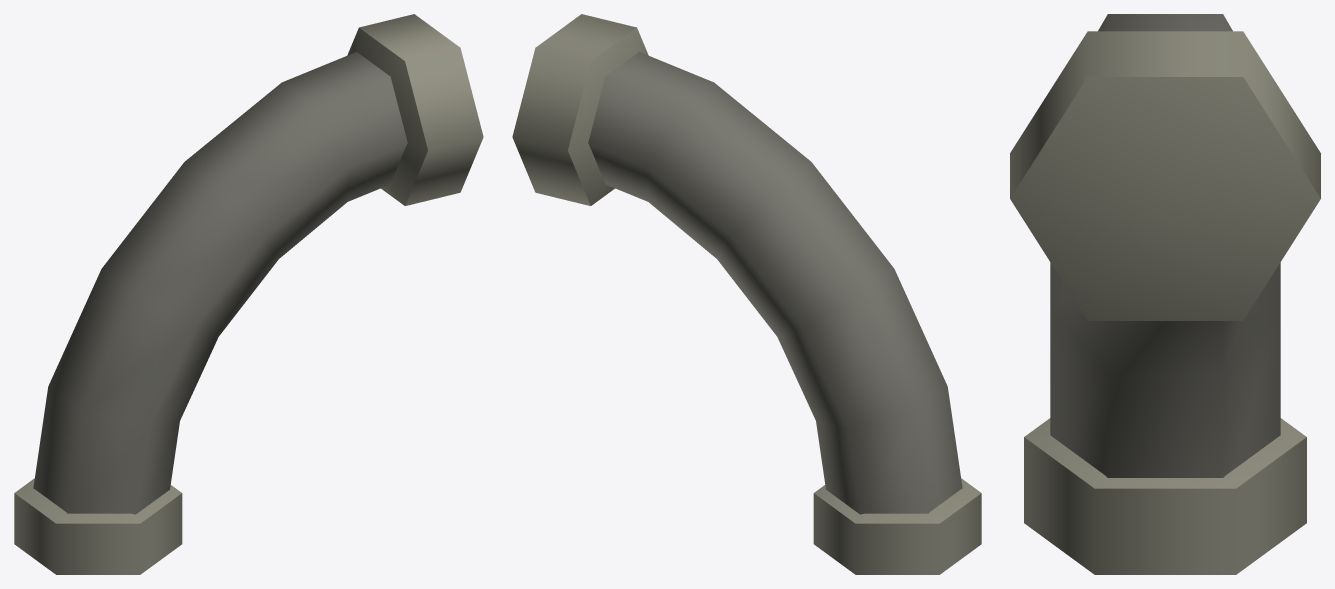
File: pipeset1_pipe1turn.fbx
3 views of the same model, side by side, from view 1: azimuth 30°, elevation 25°; view 2: azimuth 150°, elevation 25°; view 3: azimuth 270°, elevation 25° (orthographic). The views are drawn at different scales.
Visible parts, largest first — view 1: pipeset1_pipe1turn; view 2: pipeset1_pipe1turn; view 3: pipeset1_pipe1turn.
Part boxes in pixels (x1,y1,x2,y2): pipeset1_pipe1turn: (14,14,483,574); pipeset1_pipe1turn: (512,14,981,574); pipeset1_pipe1turn: (1010,14,1320,574).
Bounding box in the file's own units: 166 × 168 × 62.75.
